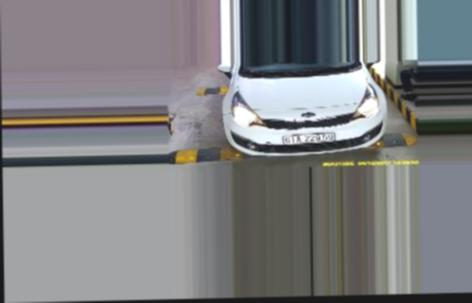License_Plate: (280, 131, 340, 146)
